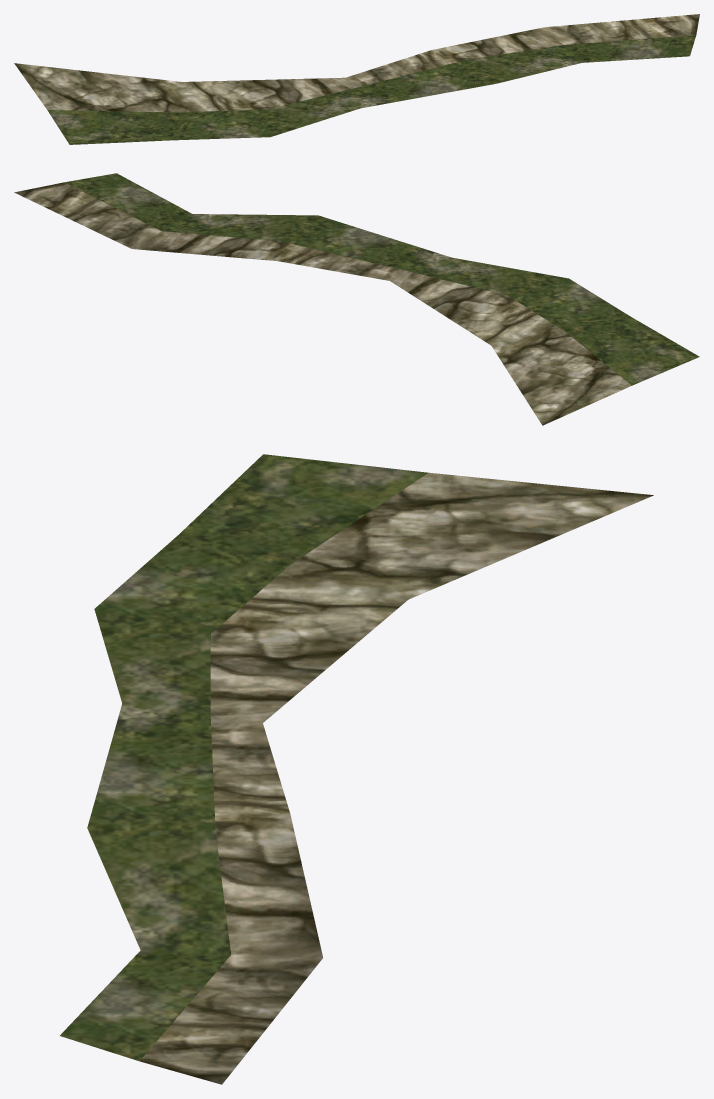
File: CB_NEWPLAYSURFACE_CB_PLAYSURFACE31.fbx
3 views of the same model, one above another, from view 1: azimuth 30°, elevation 25°; view 2: azimuth 150°, elevation 25°; view 3: azimuth 270°, elevation 25° (orthographic). The views are drawn at different scales.
Parts seen in each view (by area): view 1: CB_NEWPLAYSURFACE_CB_PLAYSURFACE31; view 2: CB_NEWPLAYSURFACE_CB_PLAYSURFACE31; view 3: CB_NEWPLAYSURFACE_CB_PLAYSURFACE31.
Part boxes in pixels (x1,y1,x2,y2): CB_NEWPLAYSURFACE_CB_PLAYSURFACE31: (14, 14, 699, 144); CB_NEWPLAYSURFACE_CB_PLAYSURFACE31: (14, 173, 699, 425); CB_NEWPLAYSURFACE_CB_PLAYSURFACE31: (60, 454, 653, 1084).
Bounding box in the file's own units: 235333 × 4734 × 97793.
Materials: 2 (2 with a texture image).
